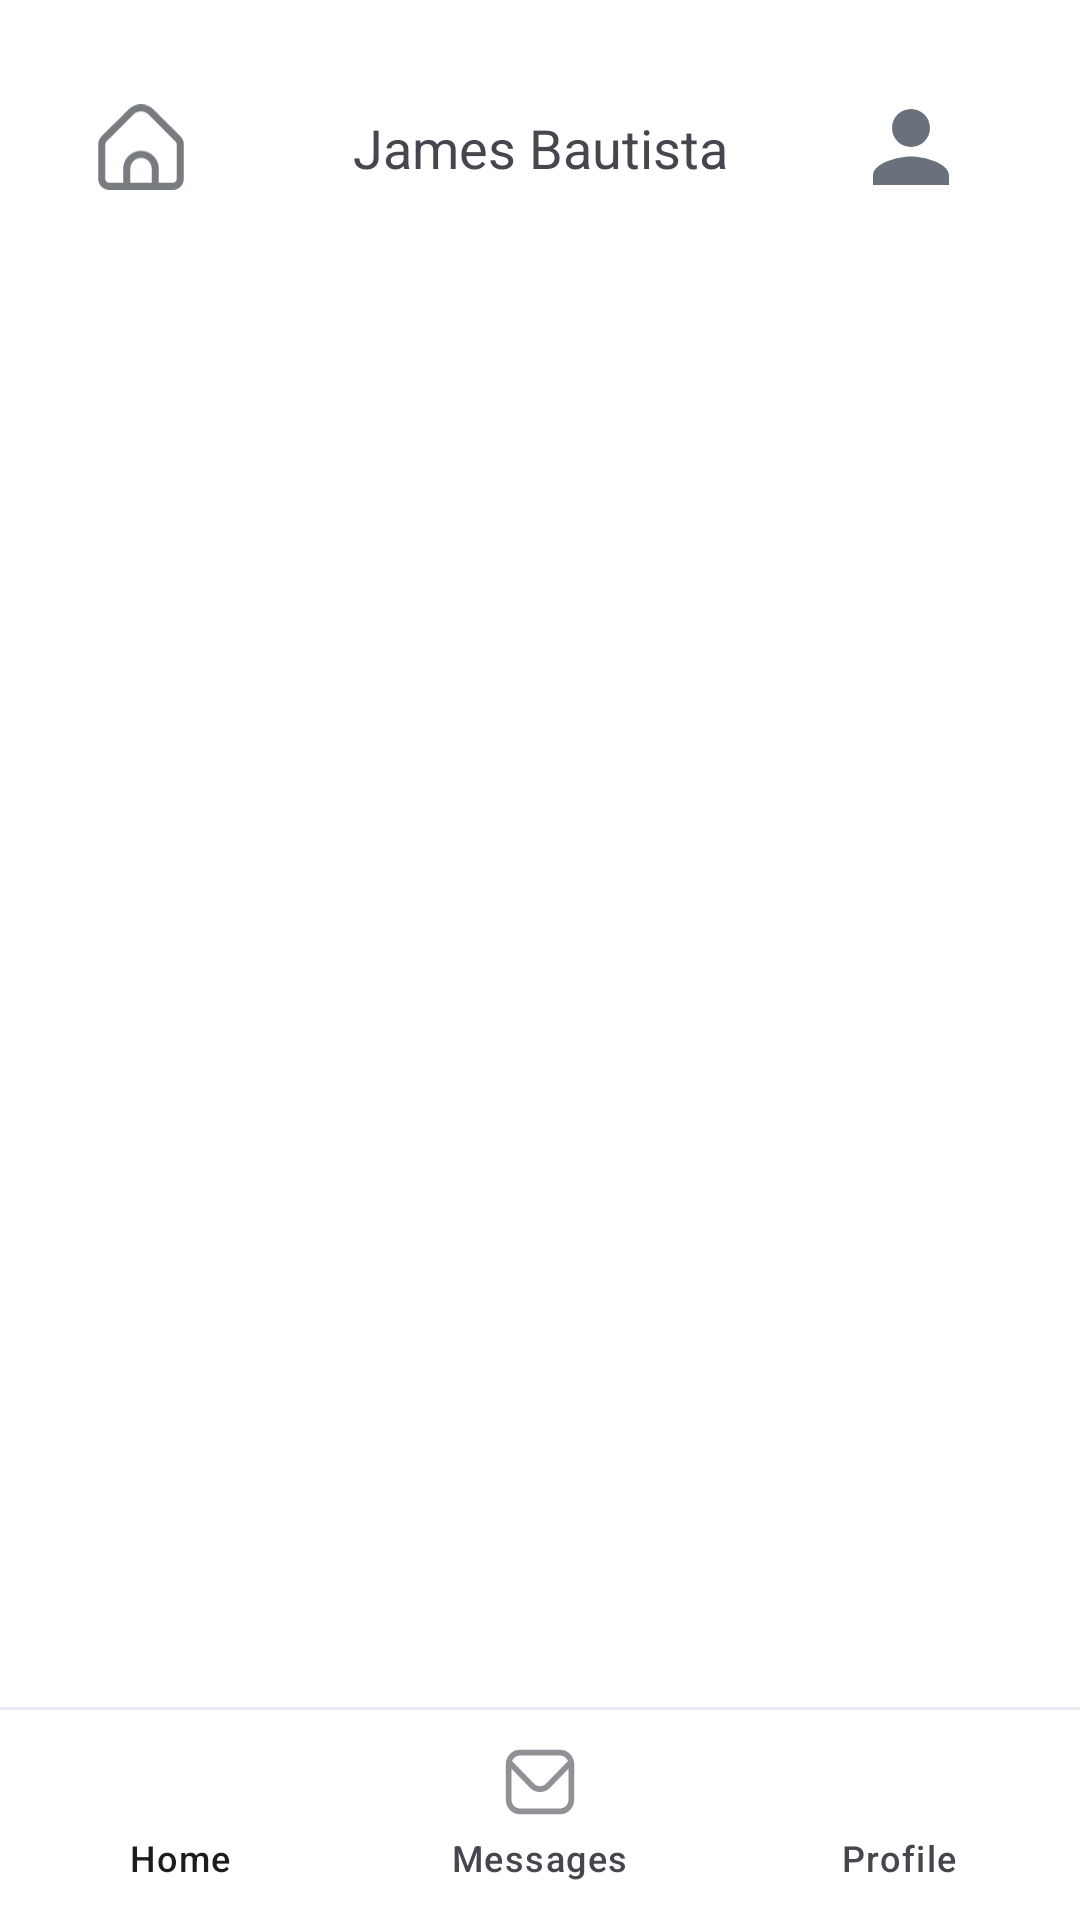

Screen size 1080x1920. Icon name, then its center in pixels as point (x, y):
home: point (141, 147)
profile: point (911, 147)
